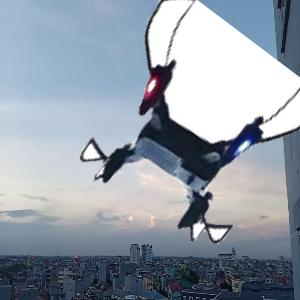drone: (88, 24, 300, 236)
